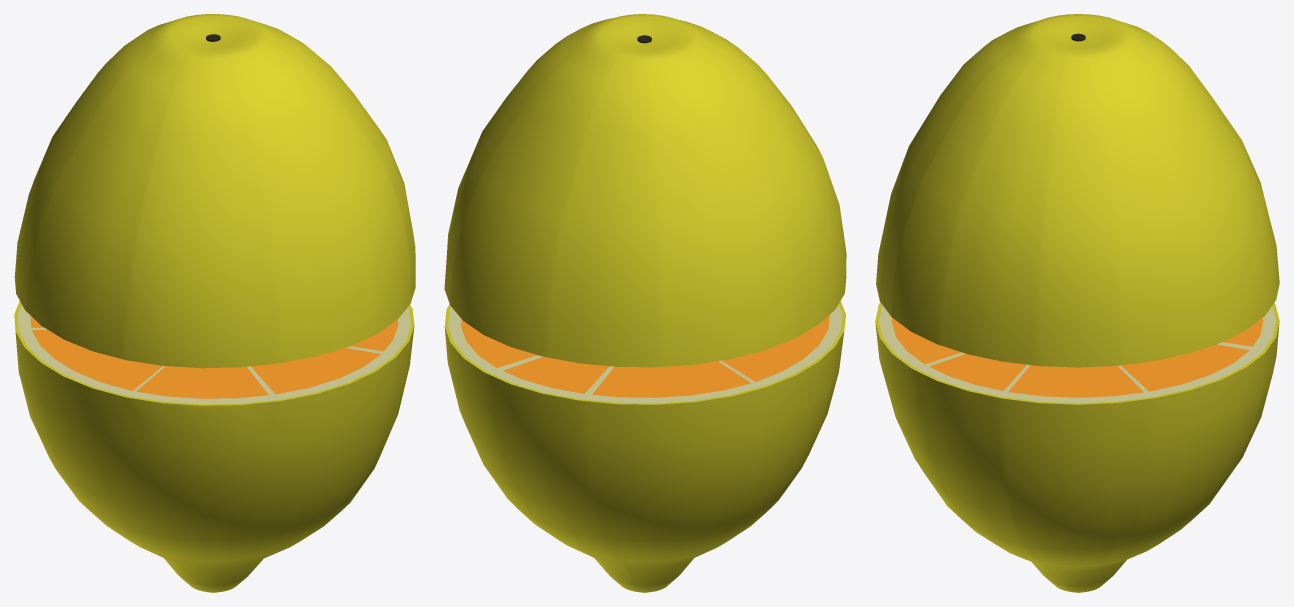
The model's file is cytryna_slice.fbx.
The picture shows the model from 3 angles, left to right: view 1: azimuth 30°, elevation 25°; view 2: azimuth 150°, elevation 25°; view 3: azimuth 270°, elevation 25°; orthographic projection.
Visible parts, largest first — view 1: cytryna_half1, cytryna_half2; view 2: cytryna_half1, cytryna_half2; view 3: cytryna_half1, cytryna_half2.
Boxes of the visible parts, x1,y1,x2,y2 form: cytryna_half1: (14, 14, 415, 368); cytryna_half2: (14, 301, 414, 592); cytryna_half1: (444, 14, 846, 367); cytryna_half2: (444, 301, 846, 592); cytryna_half1: (876, 14, 1279, 367); cytryna_half2: (875, 302, 1279, 592).
Size of the model in its own units: 12.65 by 19.45 by 12.75.
